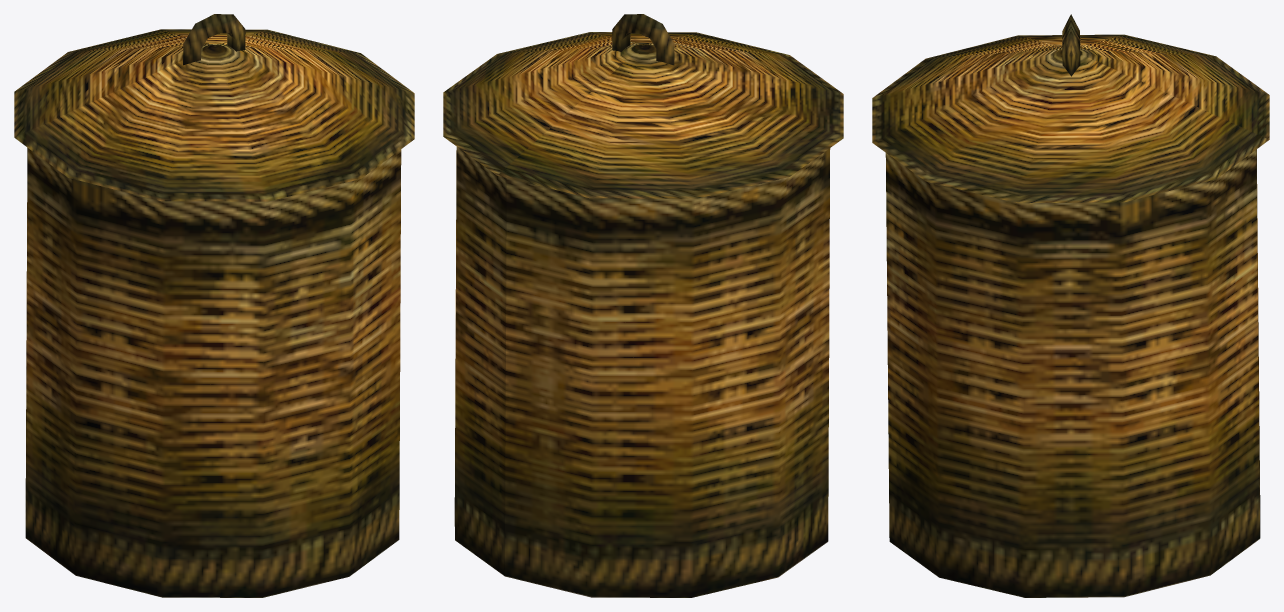
The model's file is Basket1.glb.
3 renders of one model, left to right at view 1: azimuth 30°, elevation 25°; view 2: azimuth 150°, elevation 25°; view 3: azimuth 270°, elevation 25°, orthographic.
Parts seen in each view (by area): view 1: Basket1; view 2: Basket1; view 3: Basket1.
Part boxes in pixels (x1=…): Basket1: x1=14, y1=14, x2=414, y2=597; Basket1: x1=443, y1=14, x2=843, y2=597; Basket1: x1=872, y1=14, x2=1269, y2=597.
Size of the model in its own units: 0.8081 by 1.13 by 0.808.
Materials: 1 (1 with a texture image).
